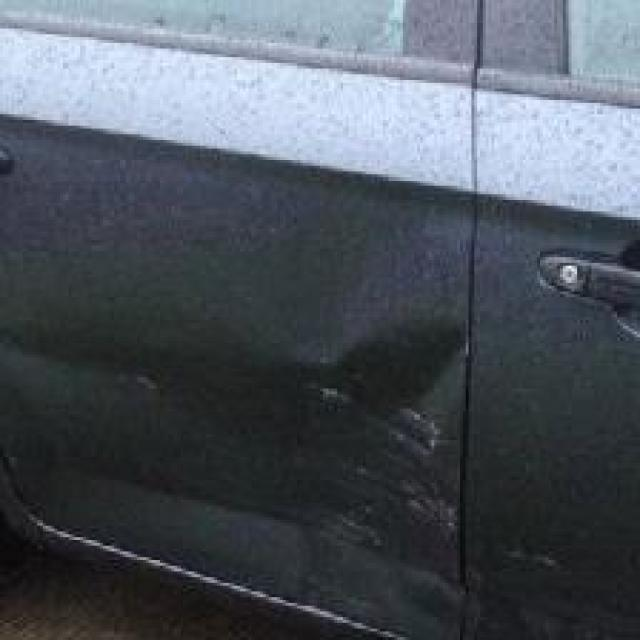damaged: (0, 317, 466, 600)
